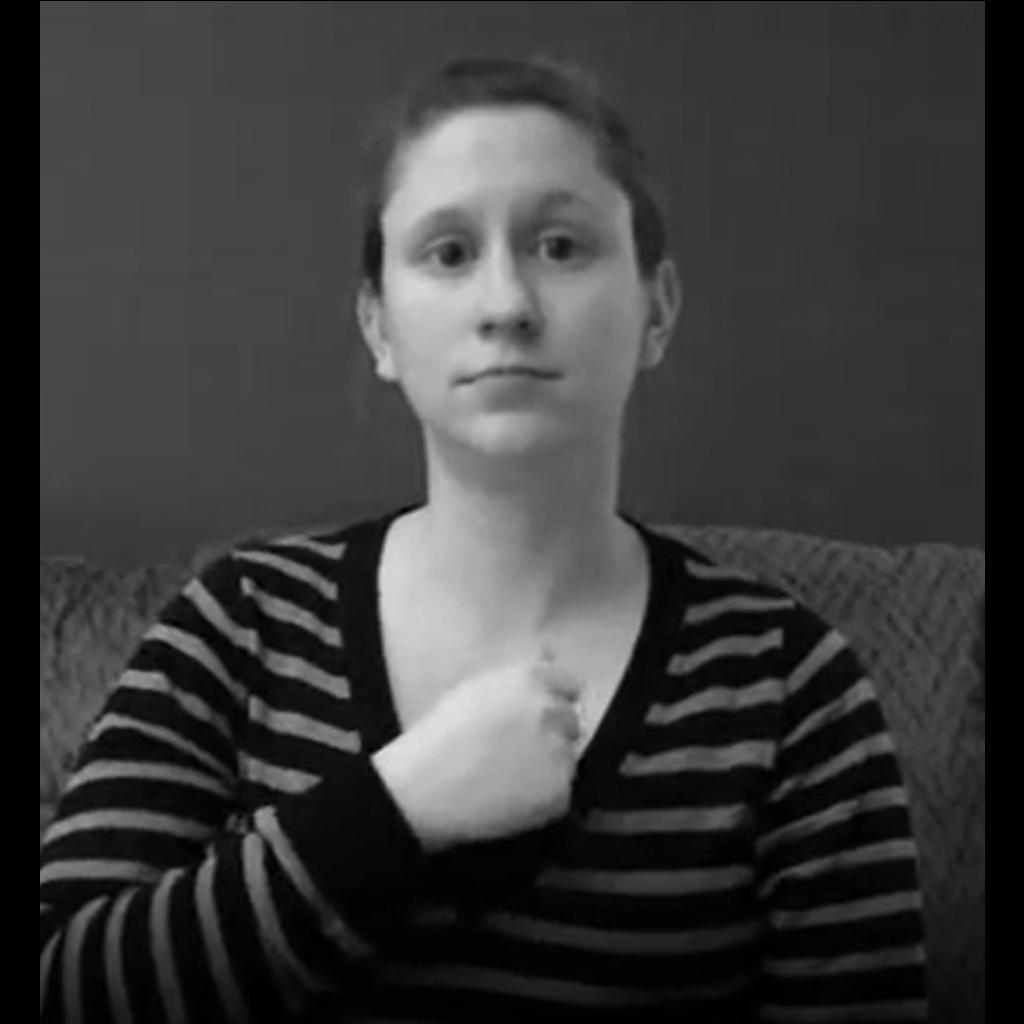sorry: (396, 642, 584, 840)
